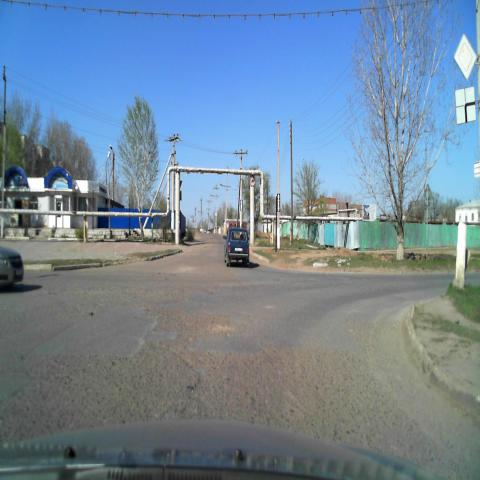2_1: (452, 32, 477, 80)
8_13: (456, 84, 476, 124)
